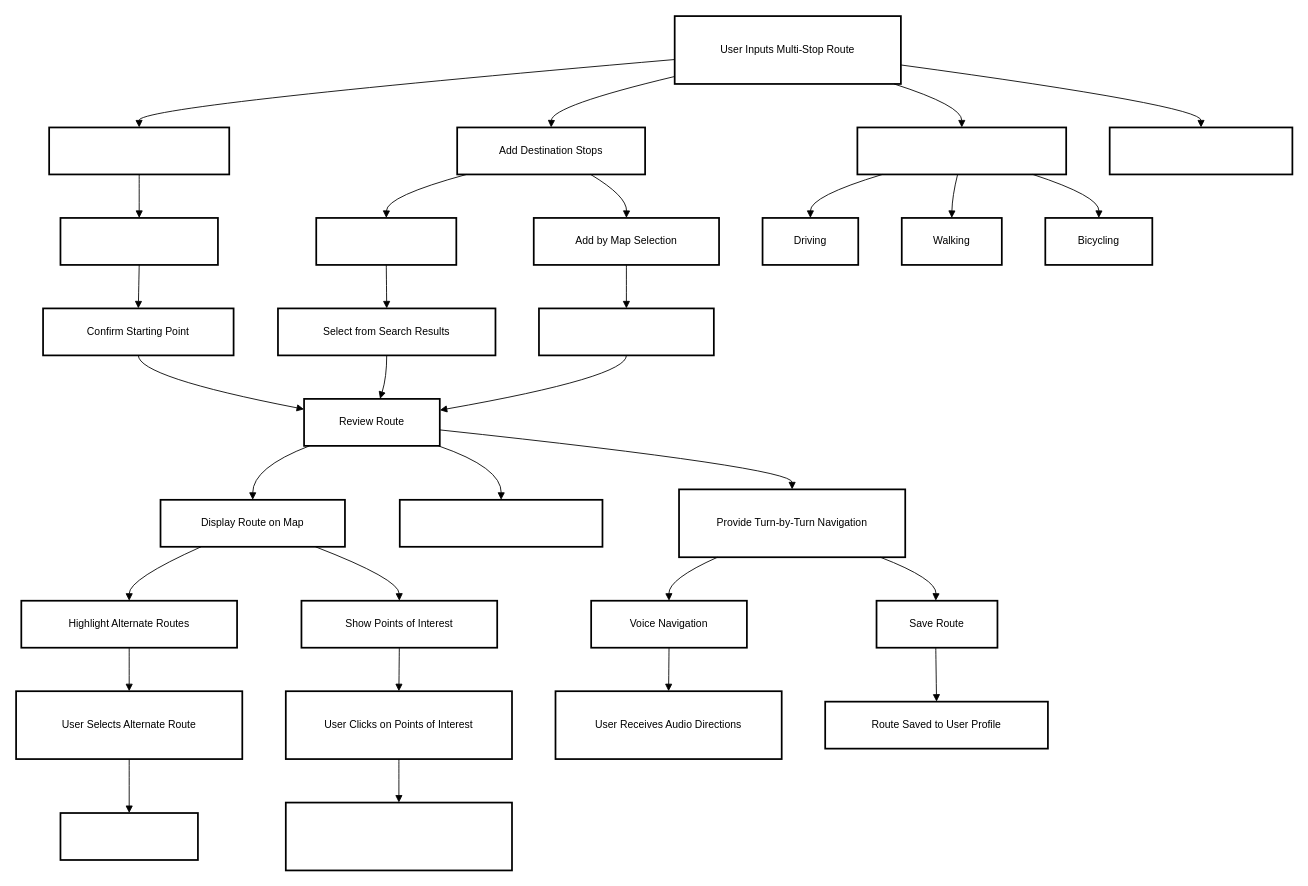
The diagram is 1308 pixels wide and 886 high, and some of its shapes have lost their labels. The centre of each missing label's shape, as x and y in pixels:
Add by Search: the point at 386,241
Calculate Total Distance: the point at 500,523
Choose Transport Method: the point at 961,150
Current Location: the point at 138,241
Display Info on Points of Interest: the point at 398,836
Estimate Travel Time: the point at 1200,150
Select Point on Map: the point at 626,331
Select Starting Point: the point at 139,150
Update Route: the point at 128,836
